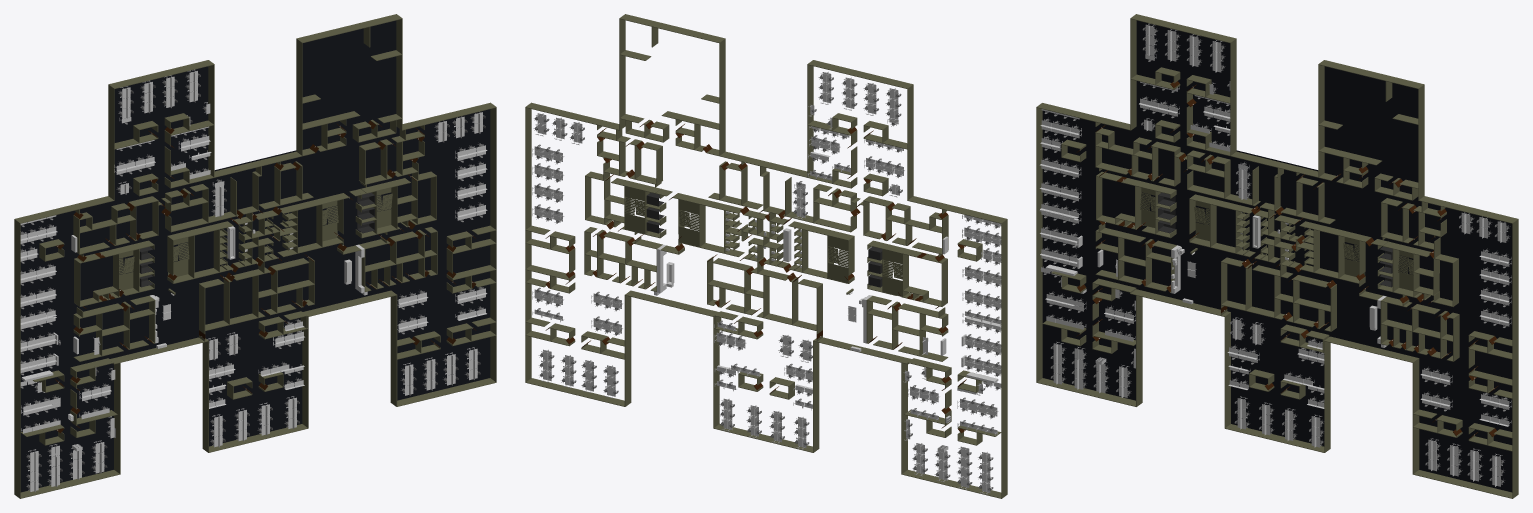
The model's file is CogniteOfficeMedium.dae.
3 views of the same model, side by side, from view 1: azimuth 30°, elevation 25°; view 2: azimuth 150°, elevation 25°; view 3: azimuth 330°, elevation 25° (orthographic).
Visible parts, largest first — view 1: Floor, Walls, Stairs, Elevators, Kitchen_Table, Stairs_3_2, Stairs_2; view 2: Walls, Stairs, Elevators, Stairs_3_2, Stairs_2, Kitchen_Table; view 3: Floor, Walls, Stairs, Elevators, Kitchen_Table, Stairs_3_2, Stairs_2.
Boxes of the visible parts, x1,y1,x2,y2 form: Floor: [20, 20, 490, 492]; Walls: [14, 14, 496, 498]; Stairs: [119, 188, 392, 290]; Elevators: [139, 192, 374, 287]; Kitchen_Table: [150, 244, 367, 348]; Stairs_3_2: [322, 201, 338, 241]; Stairs_2: [168, 237, 189, 276]; Walls: [525, 14, 1007, 498]; Stairs: [624, 186, 902, 296]; Elevators: [646, 192, 882, 287]; Stairs_3_2: [678, 199, 699, 246]; Stairs_2: [828, 236, 848, 283]; Kitchen_Table: [654, 244, 871, 351]; Floor: [1042, 20, 1512, 492]; Walls: [1036, 14, 1518, 498]; Stairs: [1140, 187, 1413, 290]; Elevators: [1158, 192, 1392, 287]; Kitchen_Table: [1171, 245, 1386, 347]; Stairs_3_2: [1343, 237, 1365, 276]; Stairs_2: [1194, 201, 1209, 241].
Bounding box in the file's own units: 92.04 × 71.51 × 2.26.
